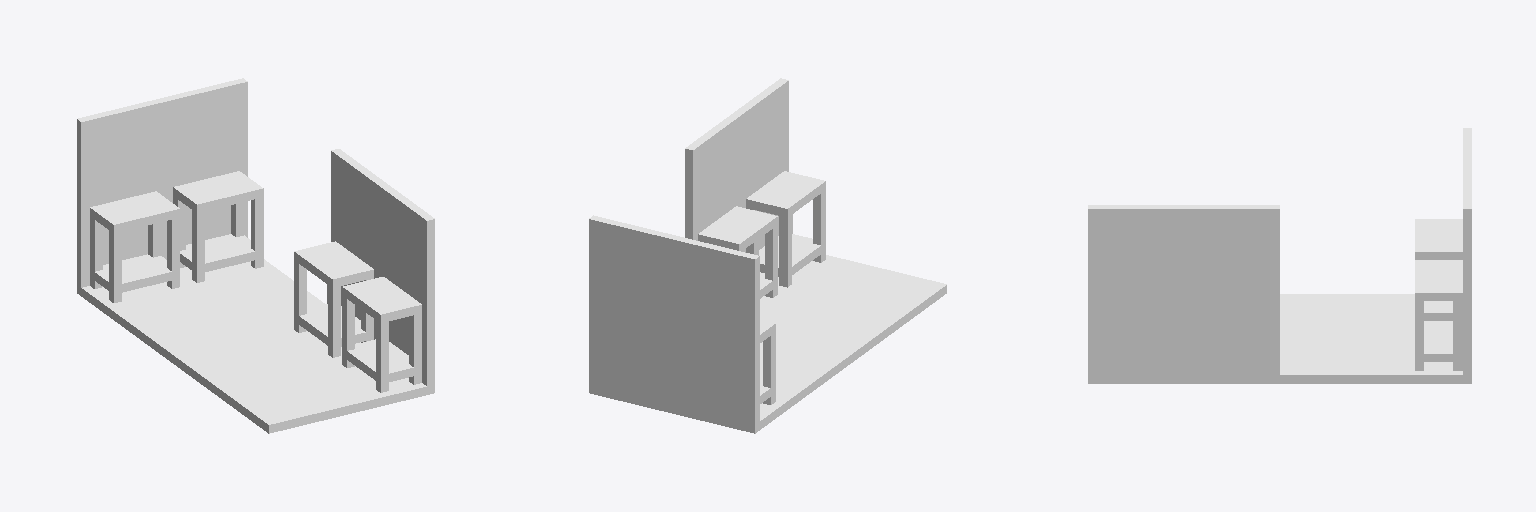
File: level_three-12.obj
The picture shows the model from 3 angles: view 1: azimuth 30°, elevation 25°; view 2: azimuth 150°, elevation 25°; view 3: azimuth 270°, elevation 25°; orthographic projection.
Visible parts, largest first — view 1: level_three-12; view 2: level_three-12; view 3: level_three-12.
Boxes of the visible parts, x1=… form: level_three-12: x1=77, y1=78, x2=434, y2=433; level_three-12: x1=589, y1=78, x2=946, y2=433; level_three-12: x1=1088, y1=128, x2=1471, y2=383.
Size of the model in its own units: 20 by 20 by 40.